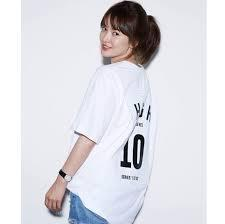Tshirt: (62, 61, 165, 224)
